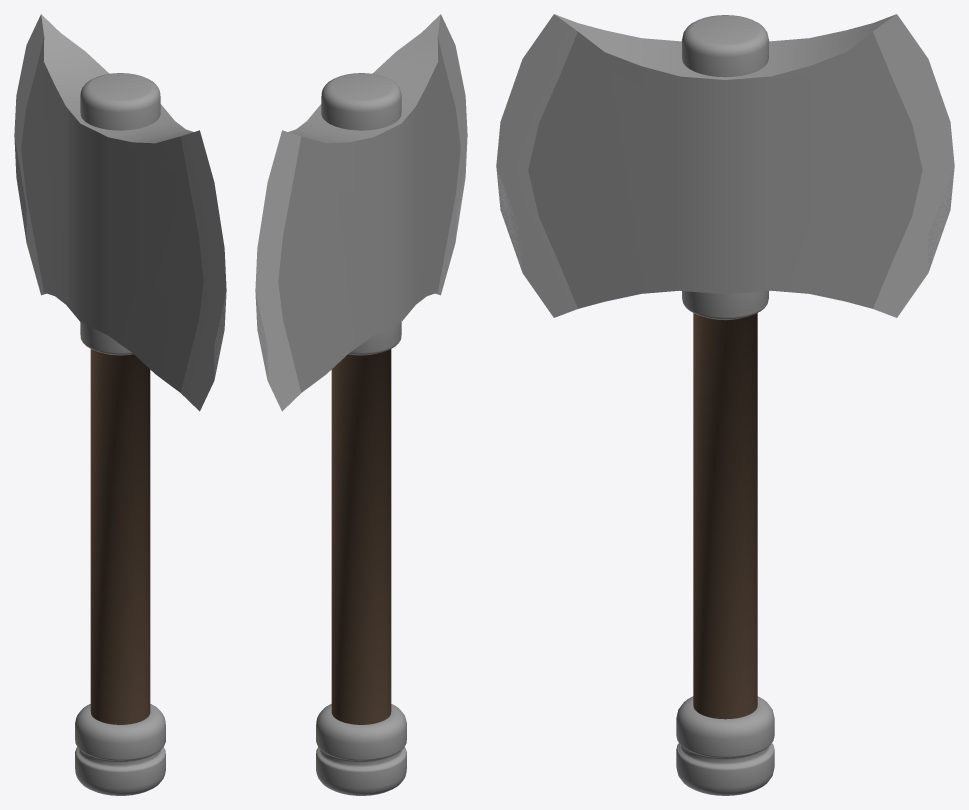
File: ClashRoyalValkyrieAxeUnity.fbx
3 views of the same model, side by side, from view 1: azimuth 30°, elevation 25°; view 2: azimuth 150°, elevation 25°; view 3: azimuth 270°, elevation 25° (orthographic). The views are drawn at different scales.
Parts seen in each view (by area): view 1: Cylinder; view 2: Cylinder; view 3: Cylinder.
Boxes of the visible parts, x1,y1,x2,y2 form: Cylinder: [14, 14, 226, 795]; Cylinder: [255, 14, 467, 795]; Cylinder: [496, 14, 954, 795].
Bounding box in the file's own units: 19.08 × 161 × 87.18.
